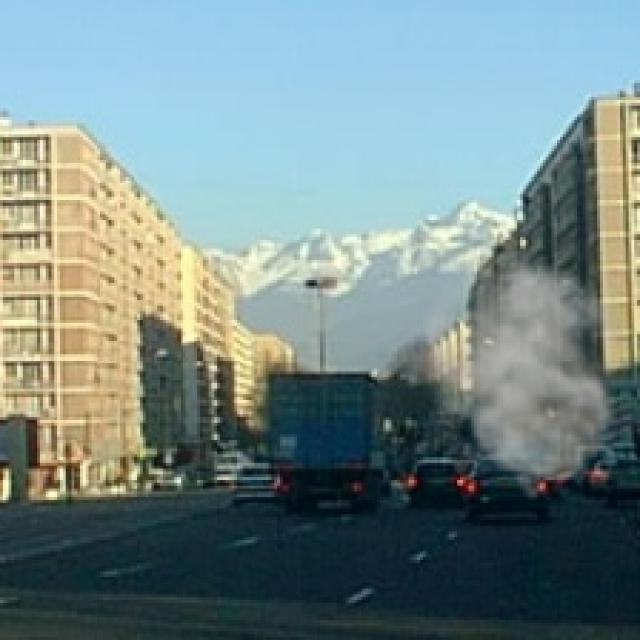Smoke: (377, 248, 637, 506)
